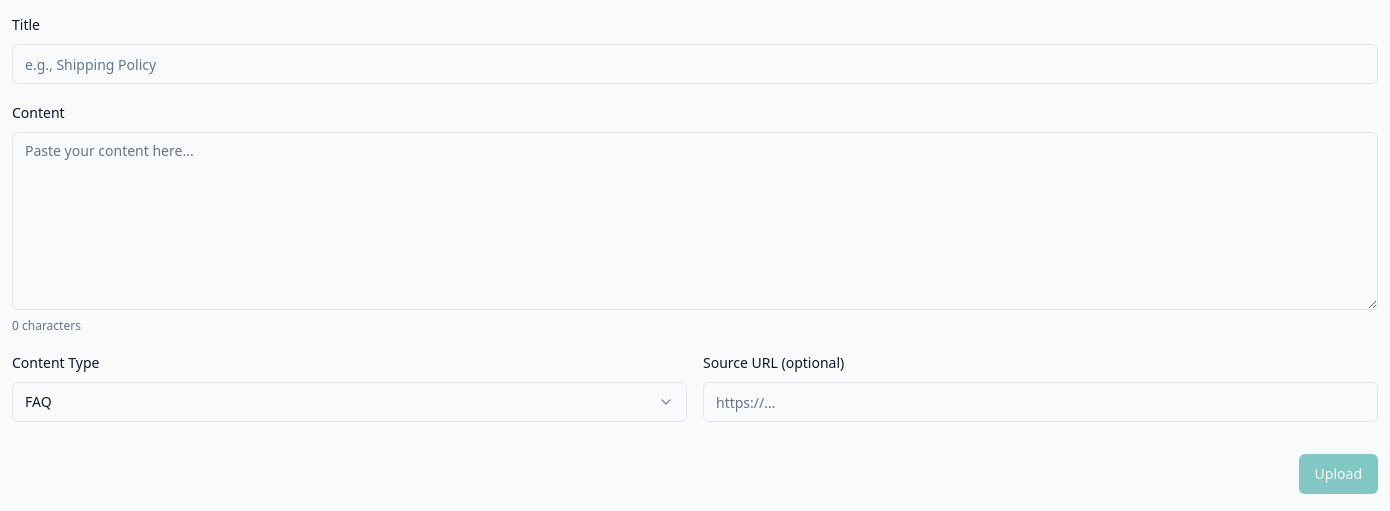
Scenario: TextUploadForm › submit button is enabled when title and content are filled
This screenshot has width=1390, height=511.
Type "Test Title" into the field labelled "Title" at (695, 64), box [12, 44, 1378, 84]
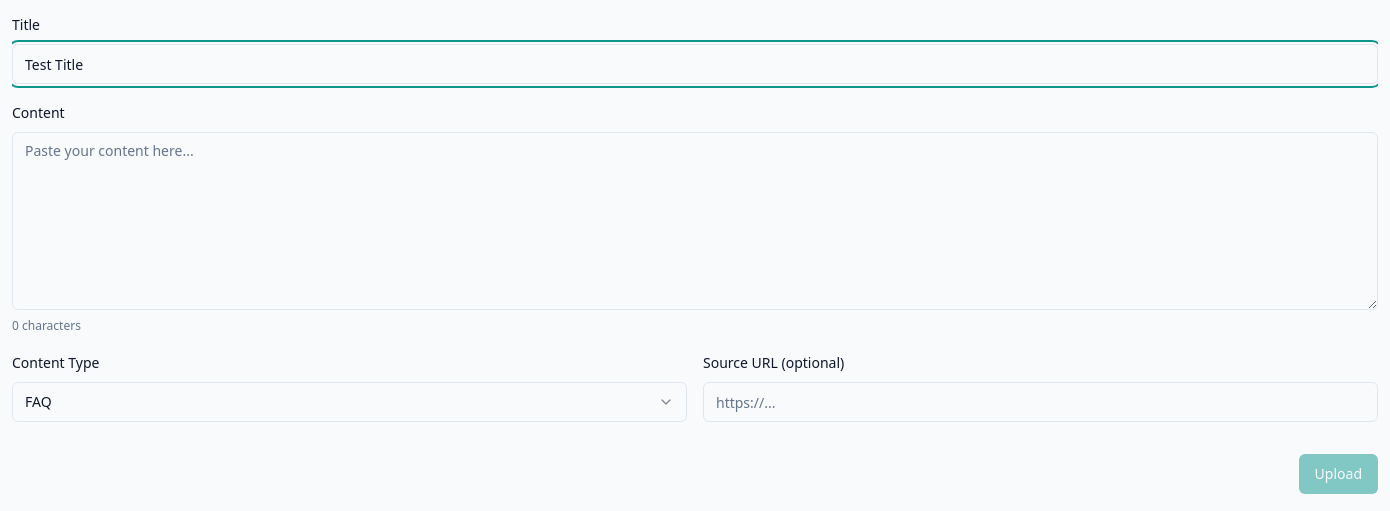
Type "Some content" into the text box labelled "Content" at (695, 221), box [12, 132, 1378, 310]
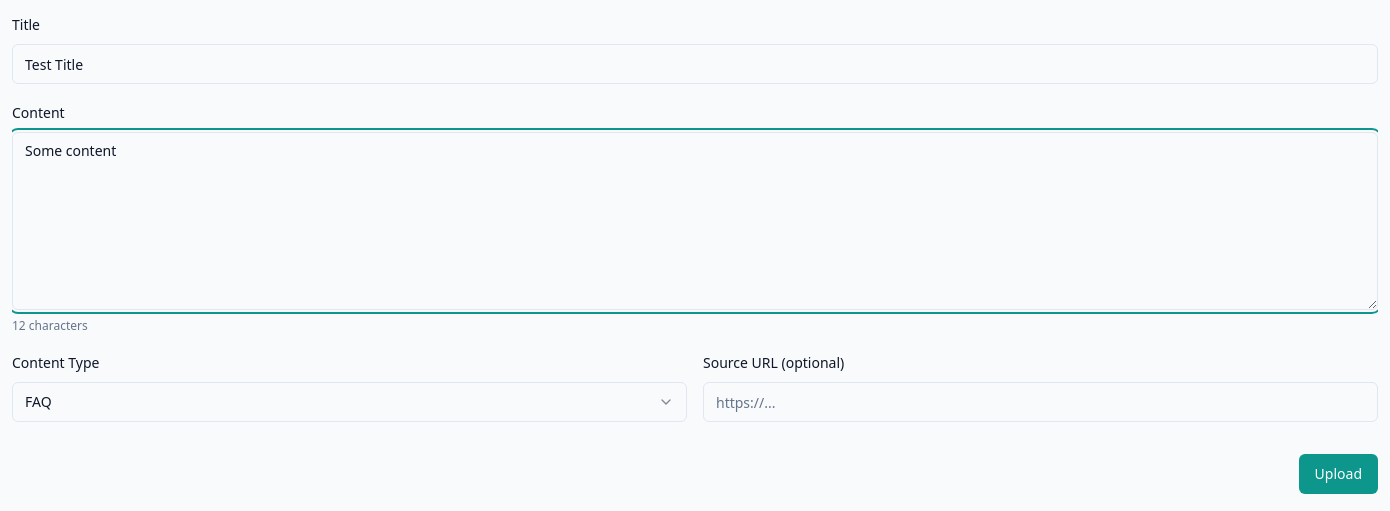
Now the button "Upload" is enabled, box [1299, 454, 1378, 494]
